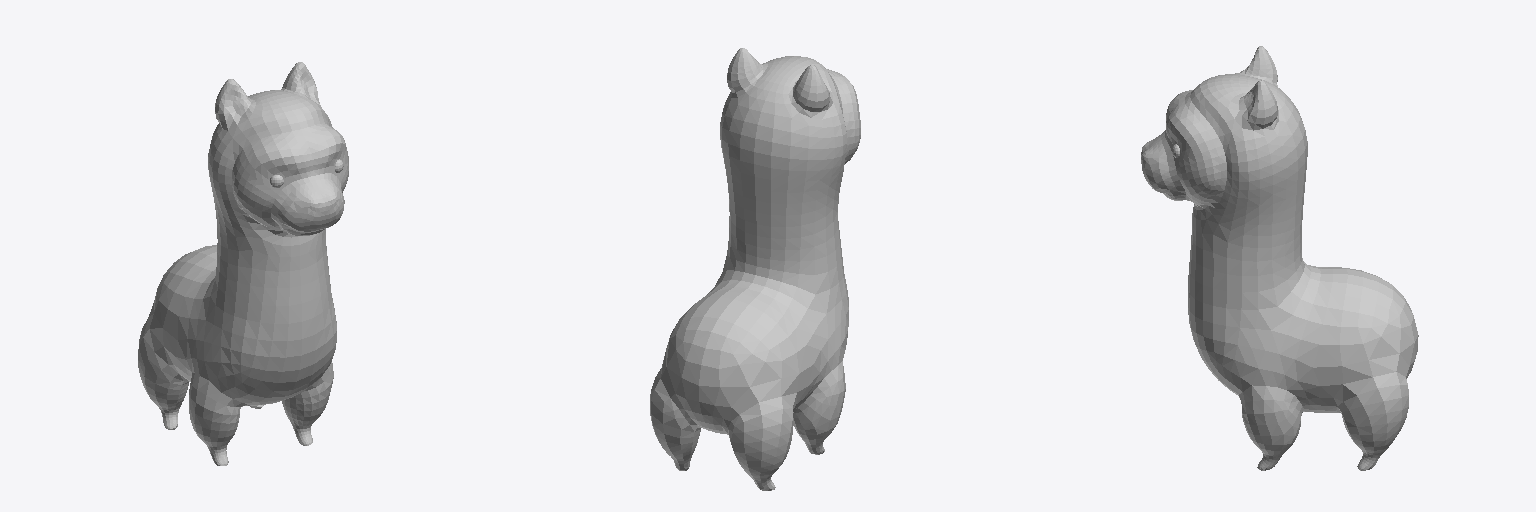
Rendered from alpaca.obj.
3 views of the same model, side by side, from view 1: azimuth 30°, elevation 25°; view 2: azimuth 150°, elevation 25°; view 3: azimuth 270°, elevation 25° (orthographic).
Visible parts, largest first — view 1: alpaca:Alpaca; view 2: alpaca:Alpaca; view 3: alpaca:Alpaca.
Boxes of the visible parts, <box> form: alpaca:Alpaca: <box>138,62,348,465</box>; alpaca:Alpaca: <box>650,48,860,490</box>; alpaca:Alpaca: <box>1141,46,1418,470</box>.
Bounding box in the file's own units: 7.54 × 20.25 × 13.23.